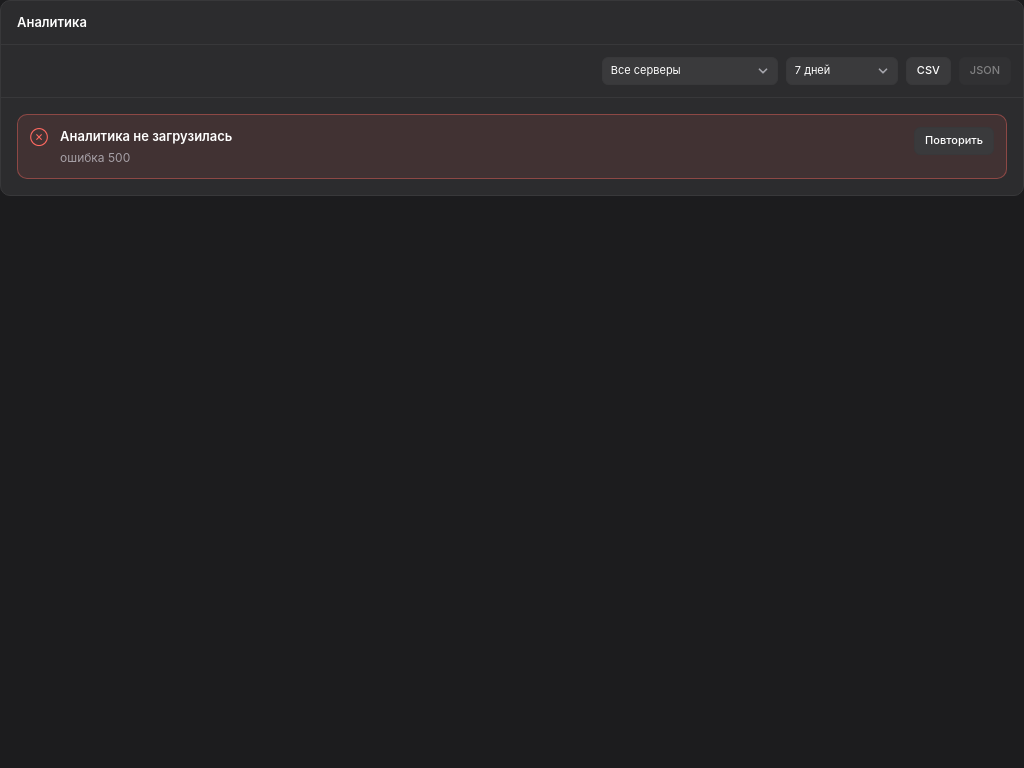
Scenario: AnalyticsPanel — branch coverage › offers a retry that re-runs the request after a failure
Check: the text "ошибка 500" is shown, box [60,150,130,165]
Click the button "Повторить": (954, 141) [914,127,994,155]
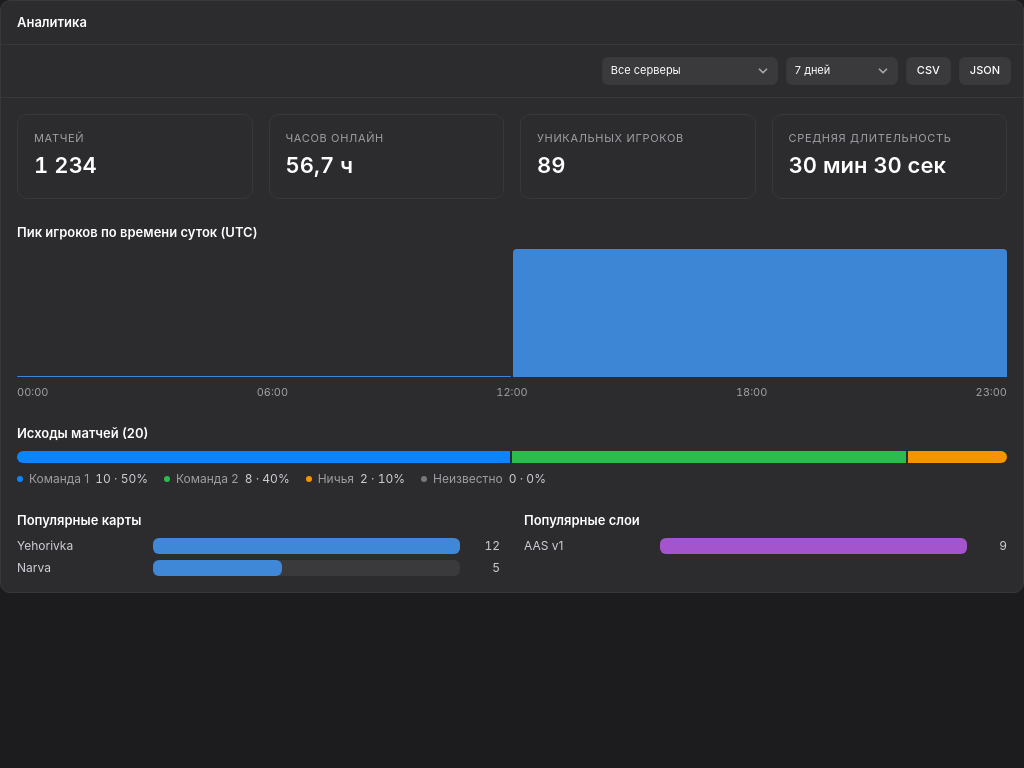
Check: the text "Матчей" is shown, box [34,131,84,145]
